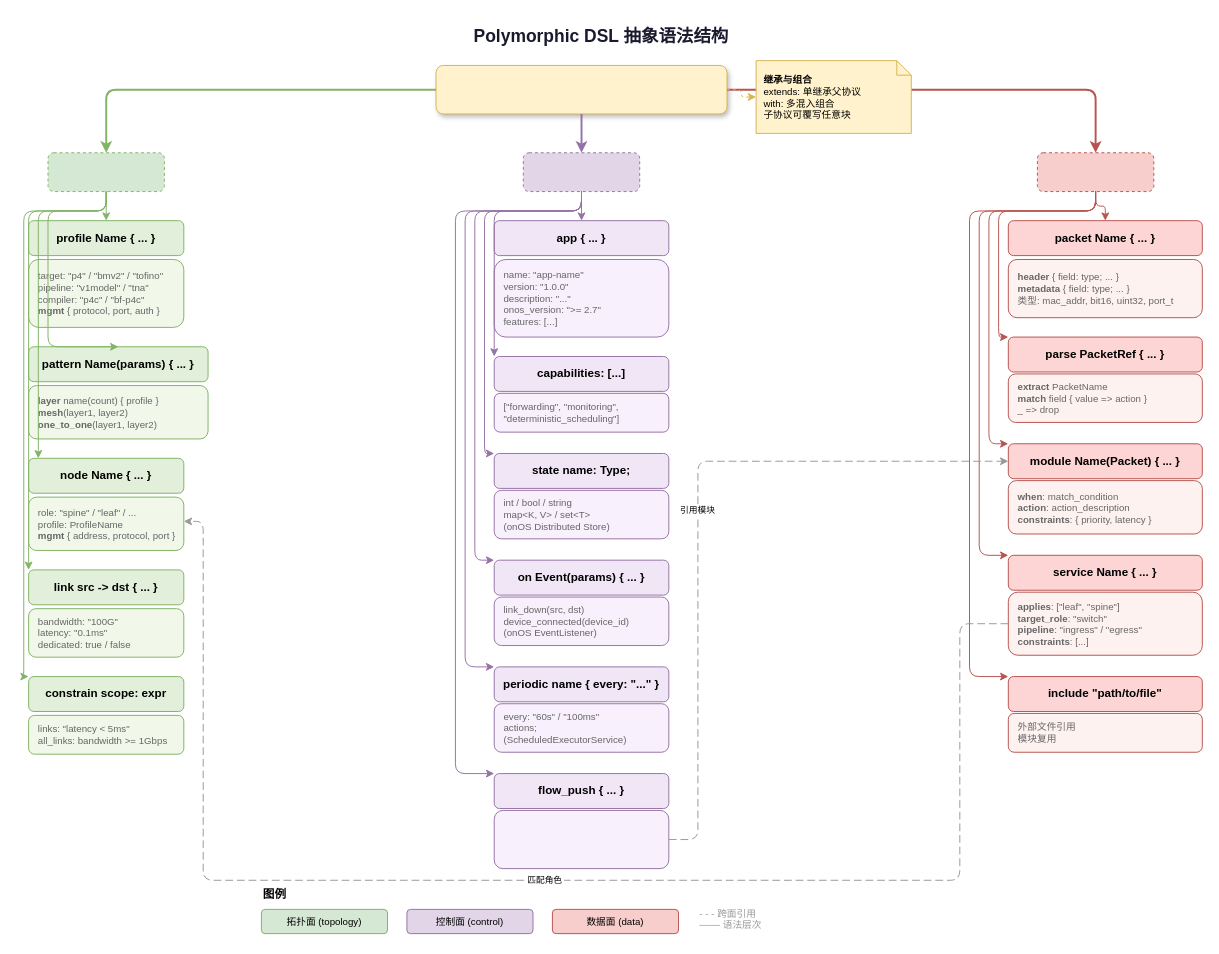
Image size: 1219x954. Some labels were removed from this diagram. Each missing label, with the centre of its shape:
control { } 控制面: the point at 581,172
data { } 数据面: the point at 1095,172
polymorphic ProtocolName extends Parent with Mixin1, Mixin2: the point at 582,91
target: device rules: from data.module via: device.mgmt (FlowRuleService): the point at 581,839
topology { } 拓扑面: the point at 105,172
